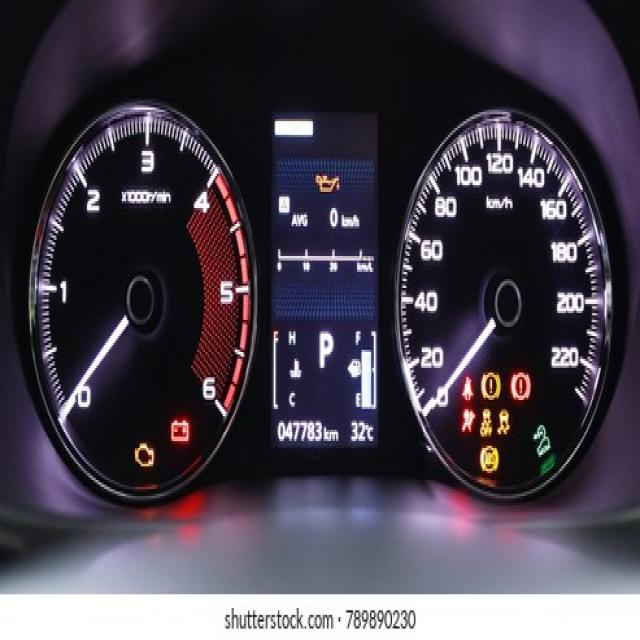Anti Lock Braking System: (477, 442, 501, 476)
Braking System Issue: (508, 368, 532, 402)
Charging System Issue: (167, 416, 191, 446)
Check Engine: (132, 439, 156, 471)
Low Engine Oil Warning Light: (313, 169, 341, 197)
SRS-Airbag: (459, 404, 476, 434)
